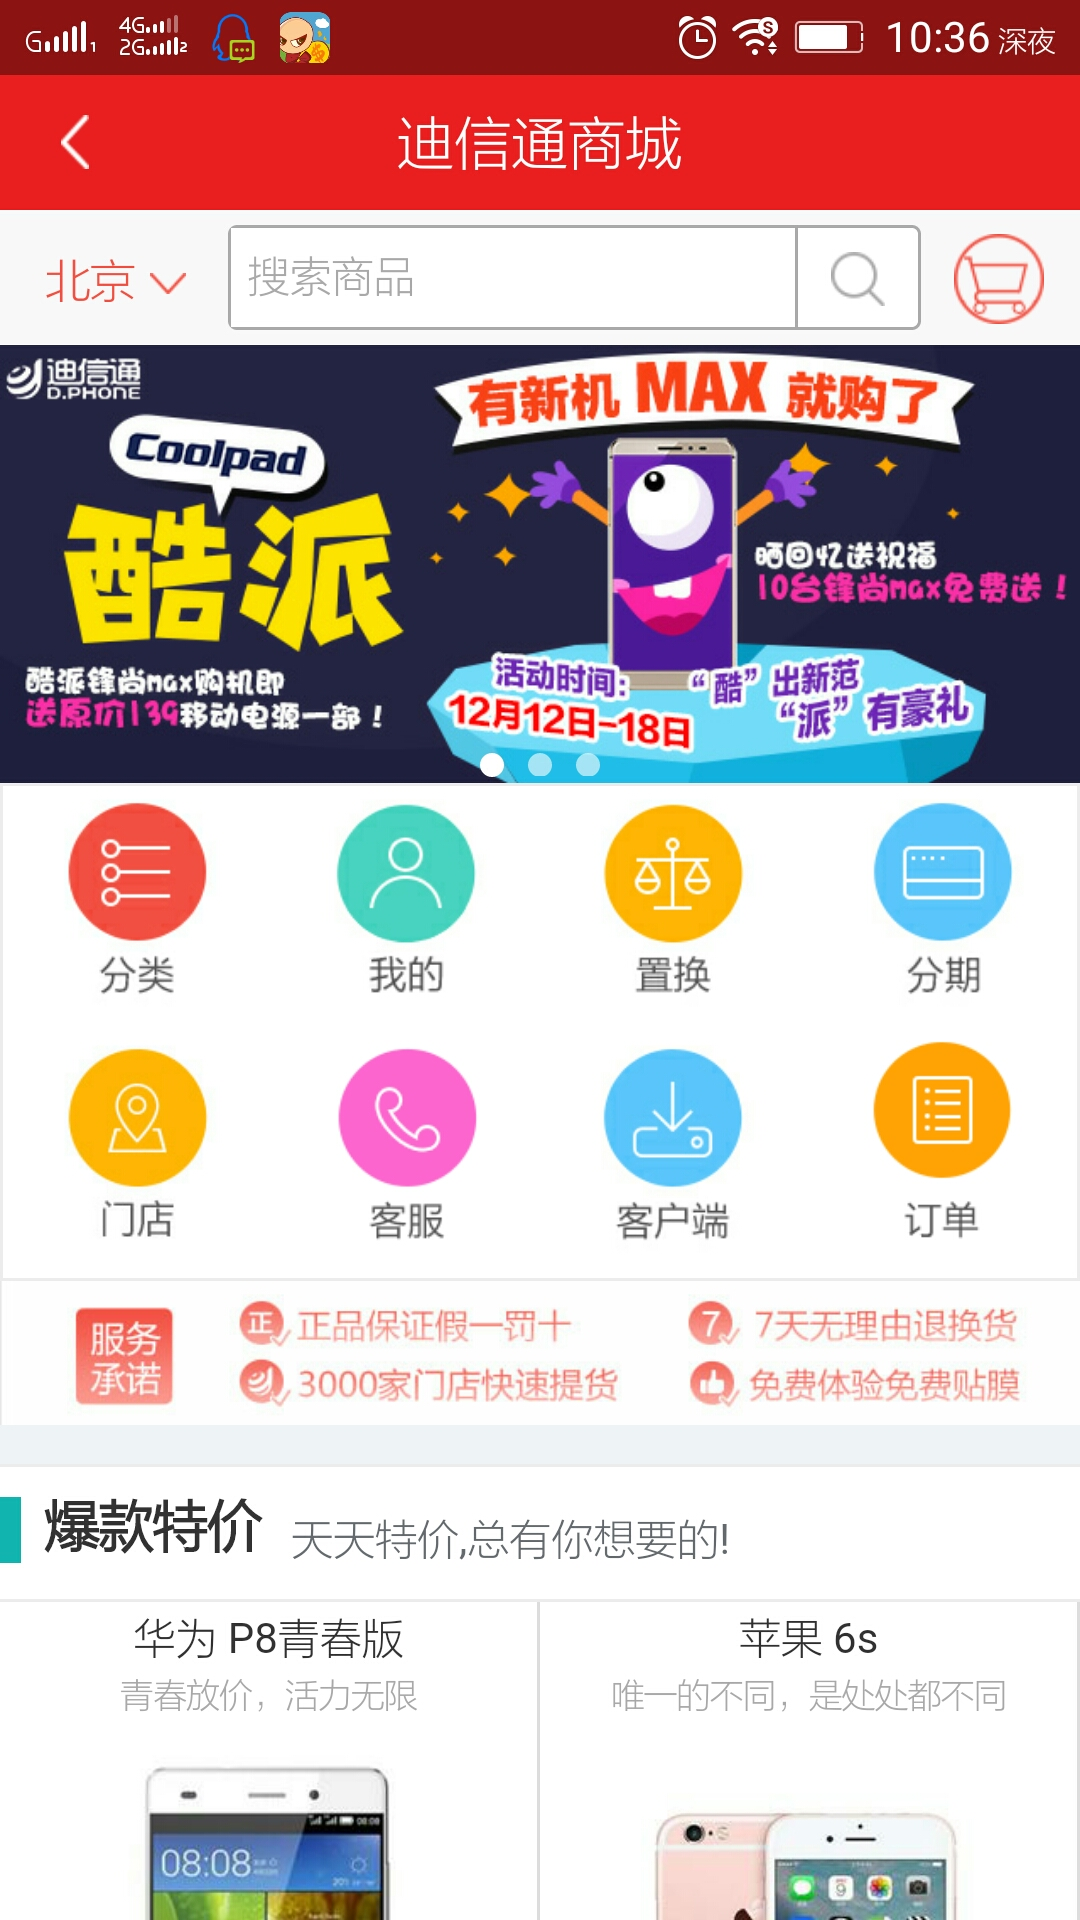imgbutton: (802, 218, 934, 338), (945, 218, 1042, 334)
nav: (15, 789, 1071, 1255)
textview: (33, 1276, 1073, 1453), (206, 214, 790, 335)
